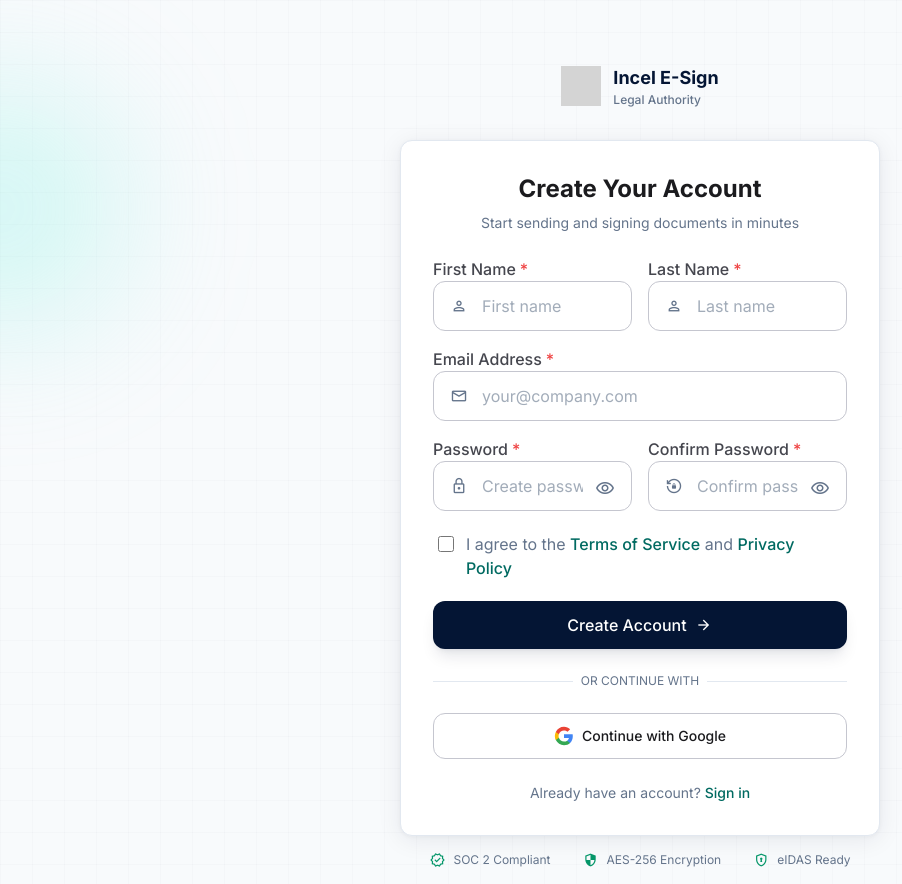
Authentication Integration Tests › Register Page › validates password confirmation
Click the checkbox at (446, 544), box [438,536,454,552]
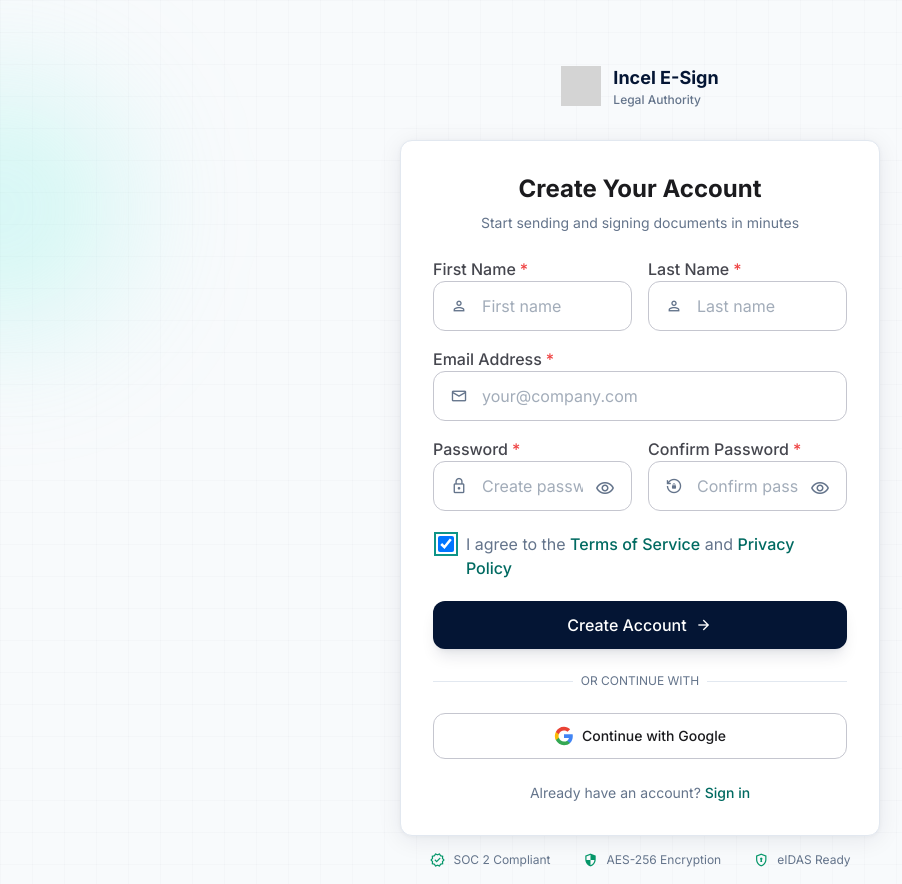
Type "John" into the field with placeholder "First Name" at (532, 306), box [434,282,631,330]
Type "Doe" into the field with placeholder "Last Name" at (748, 306), box [649,282,846,330]
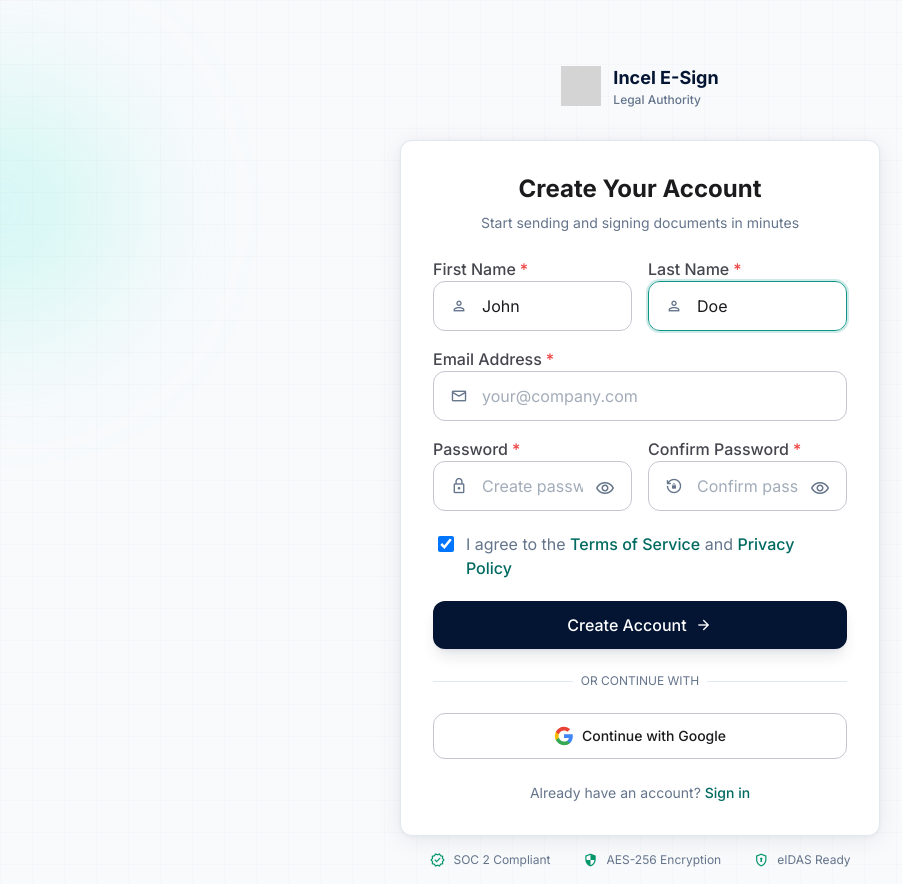
Type "test@example.com" into the field with placeholder "your@company.com" at (640, 396), box [434,372,846,420]
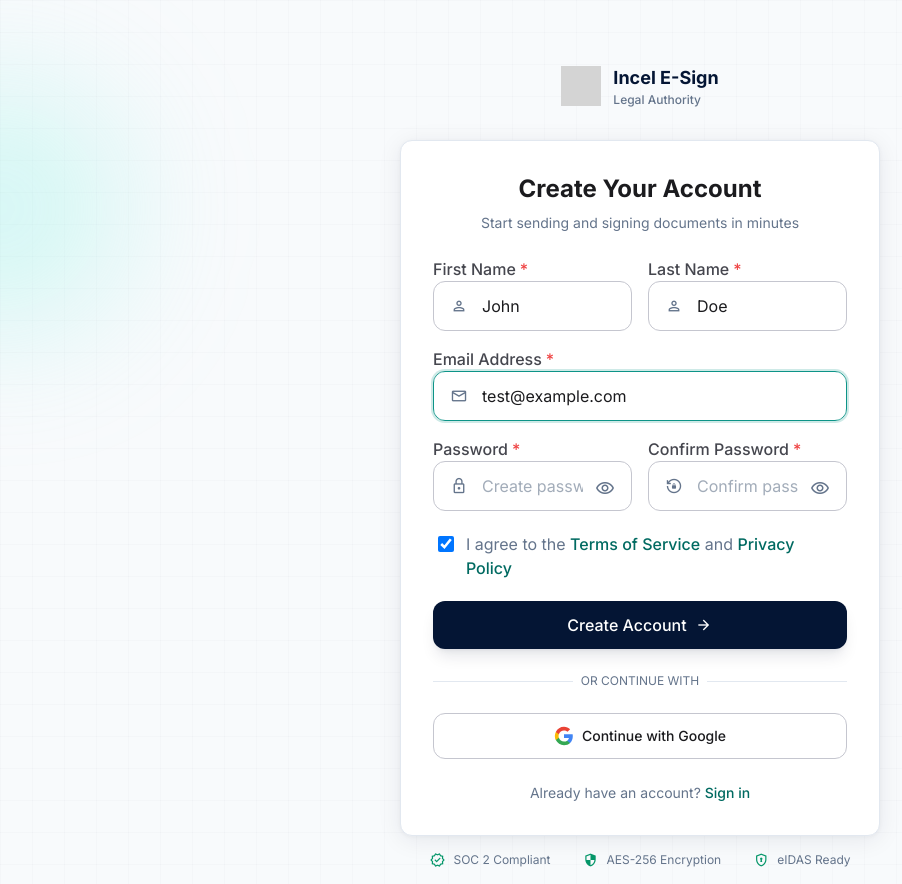
Type "Password123" into the password field with placeholder "Create password" at (532, 486), box [434,462,631,510]
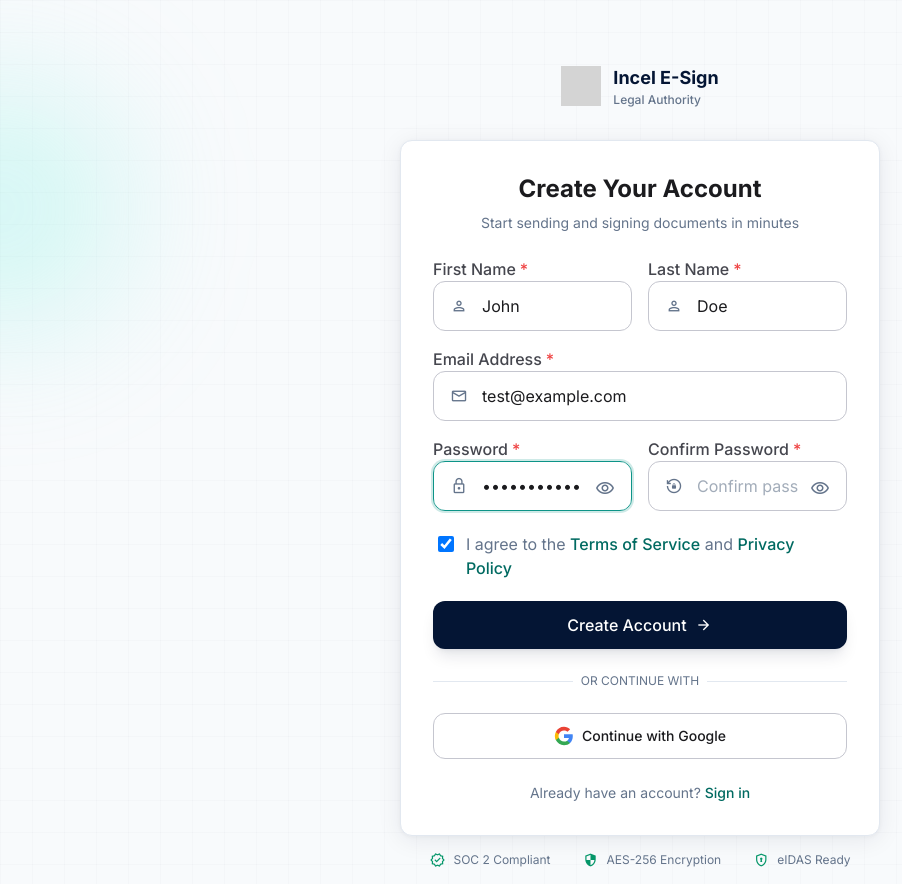
Type "DifferentPassword123" into the password field with placeholder "Confirm Password" at (748, 486), box [649,462,846,510]
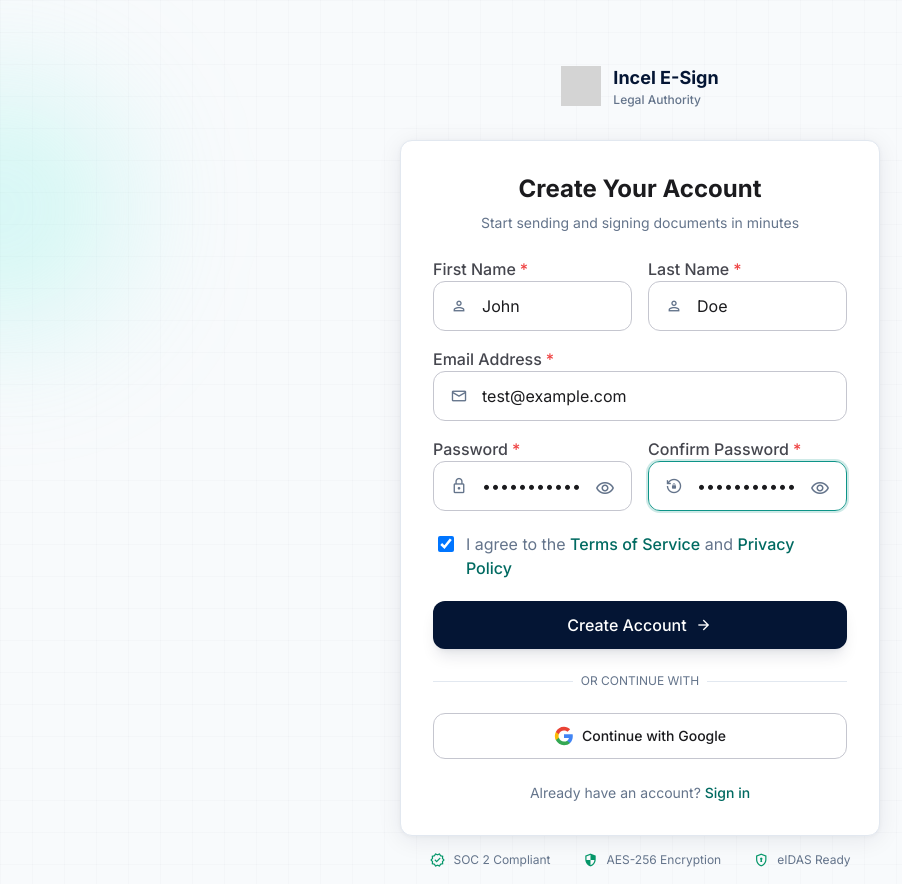
Click the button "Create Account" at (640, 625), box [433,601,847,649]
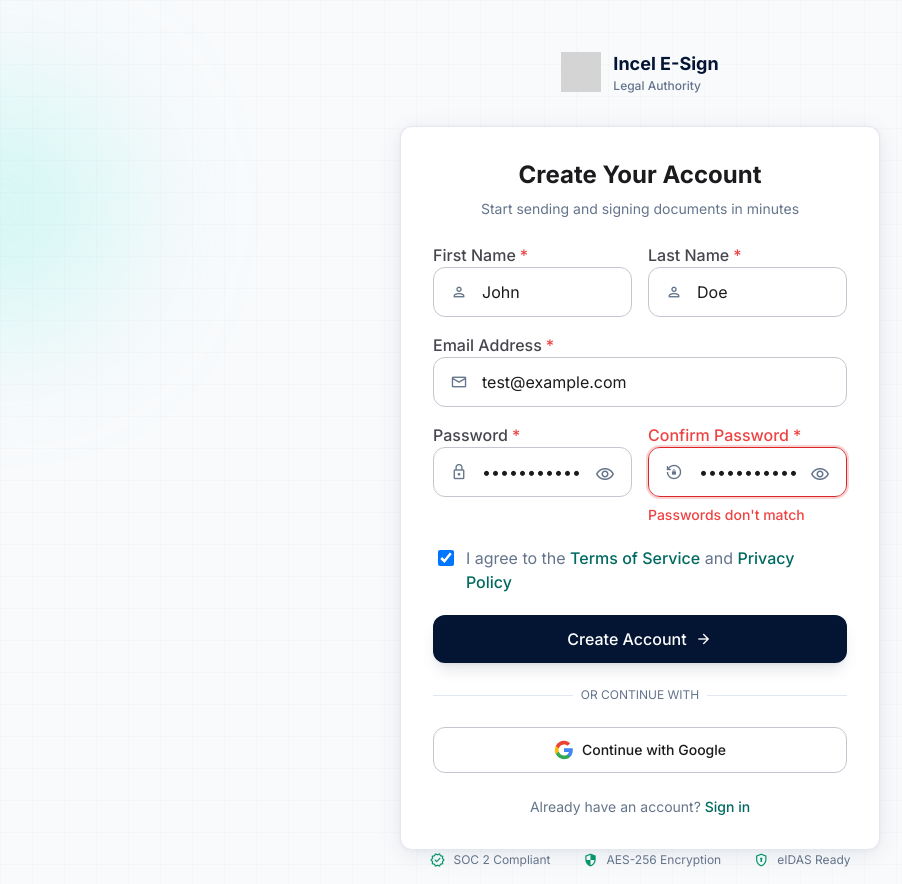
Expected: the text "Passwords don't match" is shown, [648,506,805,523]
